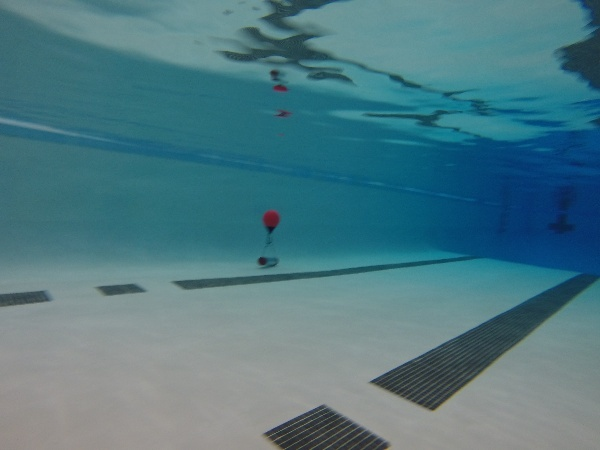buoy_red: (260, 208, 281, 236)
